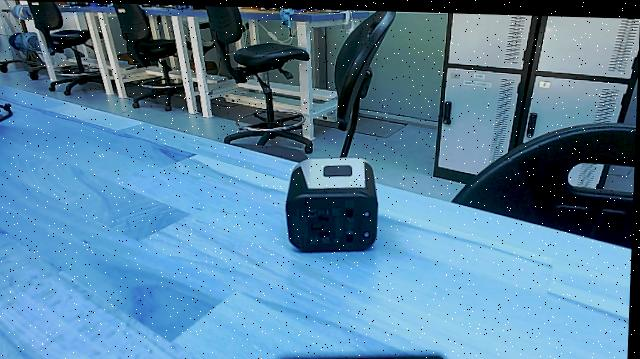adapter: (278, 155, 393, 255)
